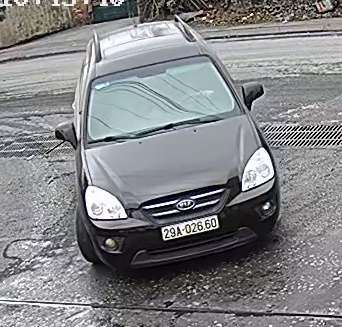vehicle plate: (154, 214, 217, 240)
